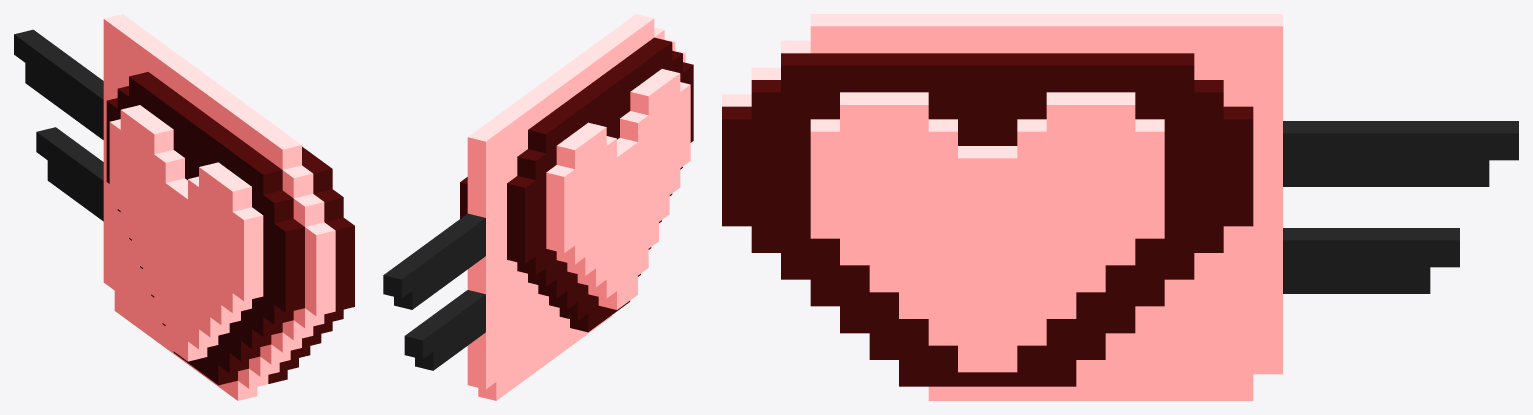
File: javStoreSign.glb
3 renders of one model, left to right at view 1: azimuth 30°, elevation 25°; view 2: azimuth 150°, elevation 25°; view 3: azimuth 270°, elevation 25°, orthographic. The views are drawn at different scales.
Visible parts, largest first — view 1: ObjObject; view 2: ObjObject; view 3: ObjObject.
Boxes of the visible parts, box(x1,y1,x2,y2) form: ObjObject: box(14, 14, 354, 400); ObjObject: box(383, 14, 693, 400); ObjObject: box(722, 14, 1518, 400).
Bounding box in the file's own units: 0.5 × 1.4 × 2.7.
2 materials, 1 textured.
